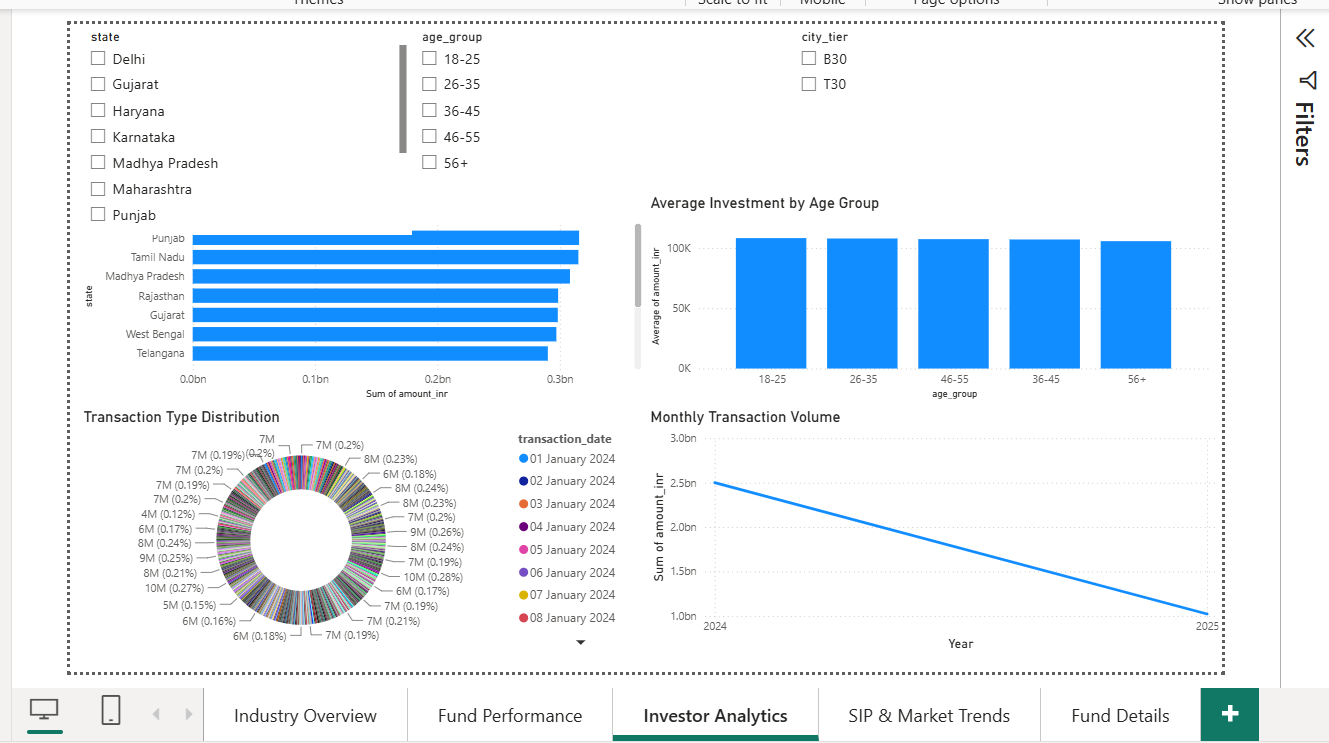

What the dashboard file says about the page in this screenshot:
{"tool":"powerbi","page":{"name":"Investor Analytics","canvas":[1280,720],"ordinal":2},"visuals":[{"type":"clusteredBarChart","title":"Transaction Amount by State","fields":{"Category":["investor_transactions_clean.state"],"Y":["Sum(investor_transactions_clean.amount_inr)"]},"box":[9.7,187.8,629.9,233.2],"z":0},{"type":"donutChart","title":"Transaction Type Distribution","fields":{"Category":["investor_transactions_clean.transaction_date"],"Y":["Sum(investor_transactions_clean.amount_inr)"]},"box":[9.7,427.5,629.9,273.6],"z":1000},{"type":"clusteredColumnChart","title":"Average Investment by Age Group","fields":{"Category":["investor_transactions_clean.age_group"],"Y":["Avg(investor_transactions_clean.amount_inr)"]},"box":[639.6,187.8,631.5,233.2],"z":2000},{"type":"lineChart","title":"Monthly Transaction Volume","fields":{"Y":["Sum(investor_transactions_clean.amount_inr)"],"Category":["investor_transactions_clean.transaction_date.Variation.Date Hierarchy.Year","investor_transactions_clean.transaction_date.Variation.Date Hierarchy.Quarter","investor_transactions_clean.transaction_date.Variation.Date Hierarchy.Month","investor_transactions_clean.transaction_date.Variation.Date Hierarchy.Day"]},"box":[639.6,427.5,641.2,273.6],"z":3000},{"type":"slicer","fields":{"Values":["investor_transactions_clean.state"]},"box":[9.7,0,369.2,233.2],"z":4000},{"type":"slicer","fields":{"Values":["investor_transactions_clean.age_group"]},"box":[378.9,0,421,187.8],"z":5000},{"type":"slicer","fields":{"Values":["investor_transactions_clean.city_tier"]},"box":[800,0,471,188],"z":6000}]}

Visuals, with their boxes on the page's 1280x720 design canvas (x1, y1, x2, y2). These are canvas units, not pixel positions in the 1329x743 screenshot, which may show the page scaled, cropped or inside an application window:
"Transaction Amount by State" clusteredBarChart: bbox=[10, 188, 640, 421]
"Transaction Type Distribution" donutChart: bbox=[10, 428, 640, 701]
"Average Investment by Age Group" clusteredColumnChart: bbox=[640, 188, 1271, 421]
"Monthly Transaction Volume" lineChart: bbox=[640, 428, 1281, 701]
slicer - investor_transactions_clean.state: bbox=[10, 0, 379, 233]
slicer - investor_transactions_clean.age_group: bbox=[379, 0, 800, 188]
slicer - investor_transactions_clean.city_tier: bbox=[800, 0, 1271, 188]
